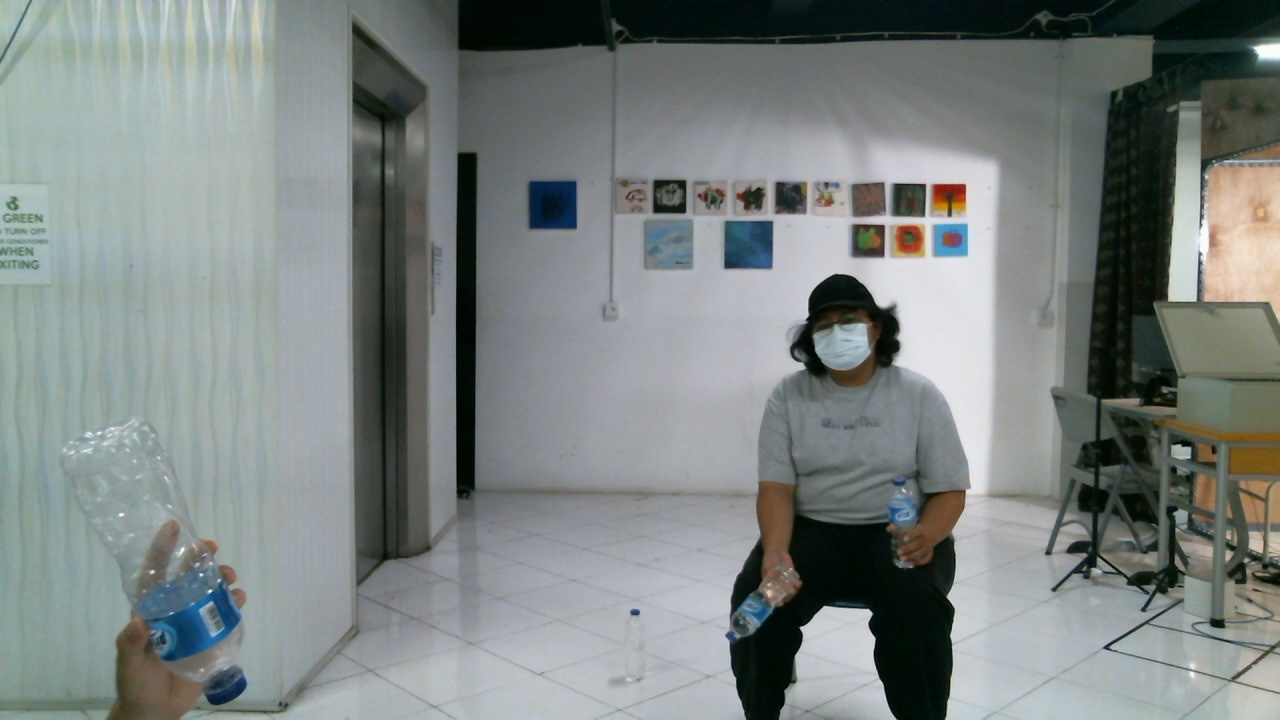Bottle: (55, 420, 248, 702), (884, 475, 919, 568)
